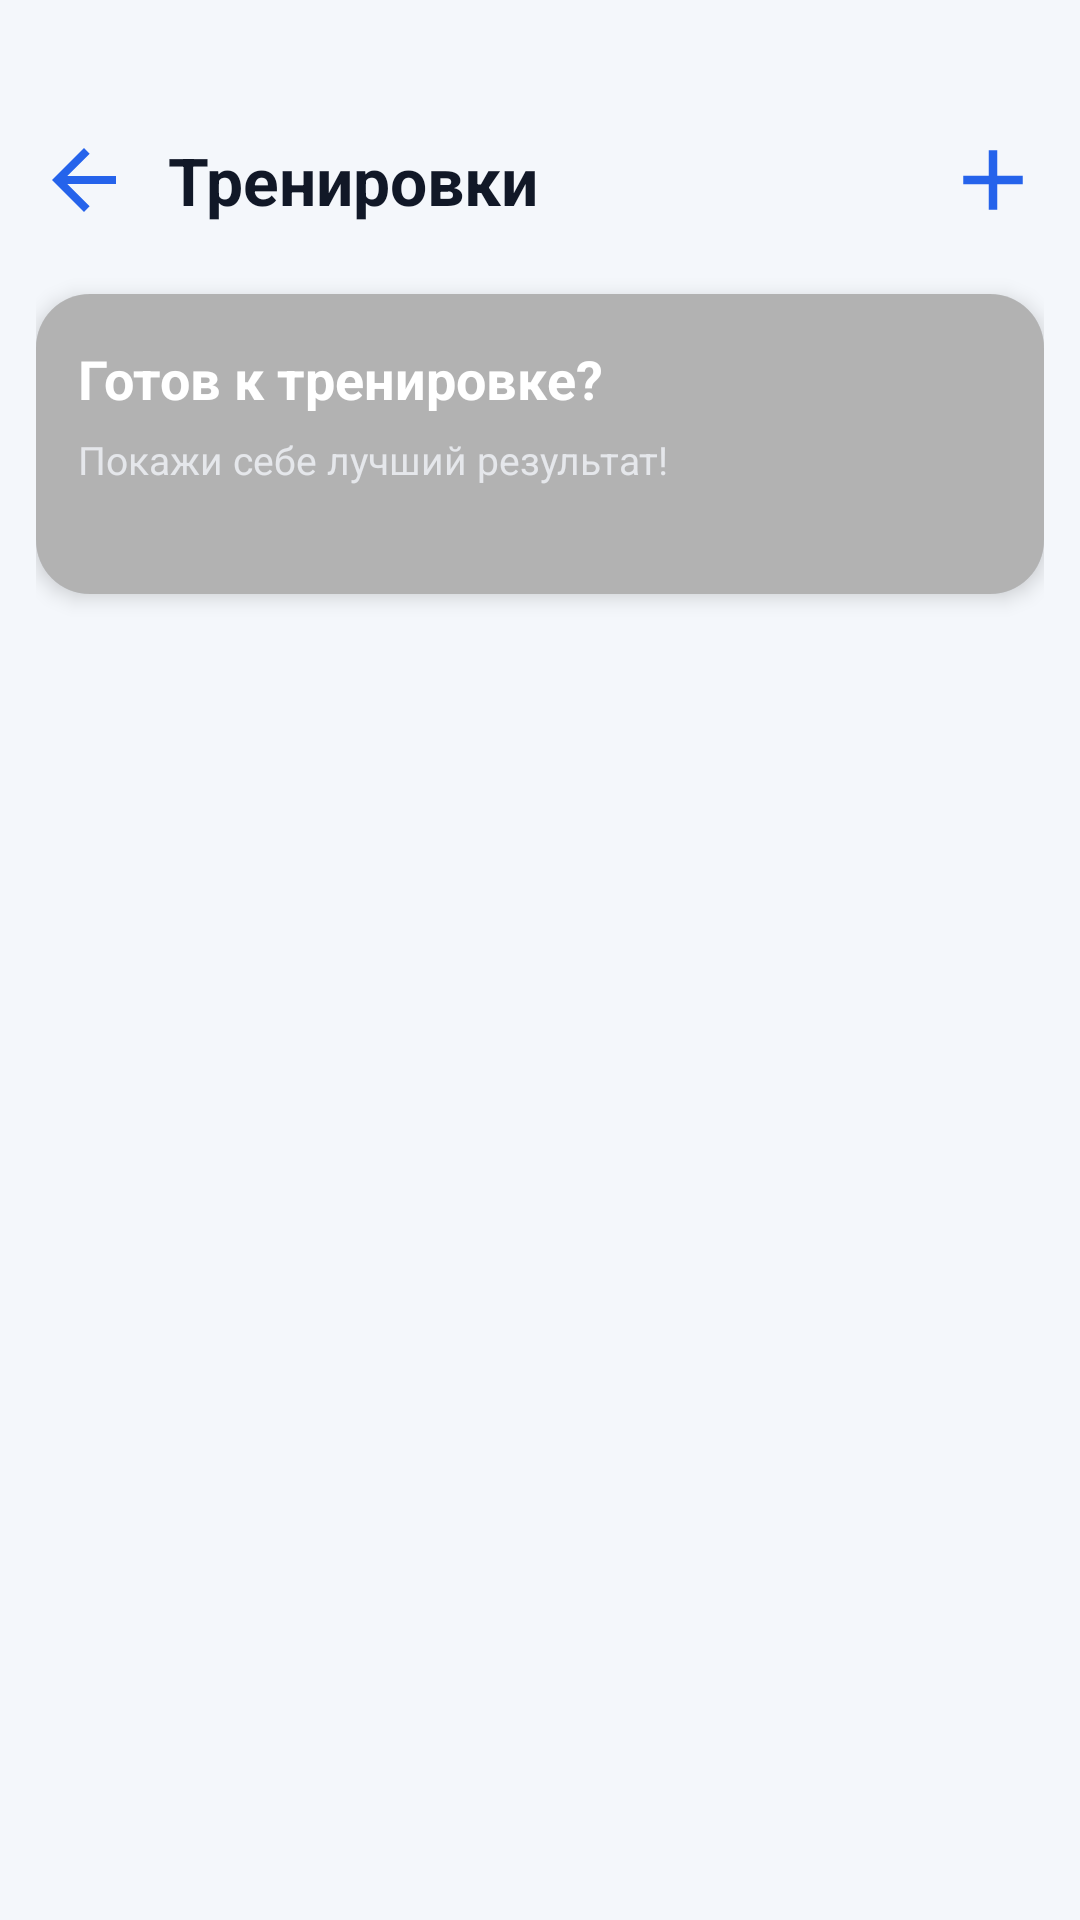

Where icons sit on this 1080*1920 app screen, as [x1, y1, x2, y2]:
add: [963, 150, 1023, 210]
arrow back: [52, 148, 116, 212]
